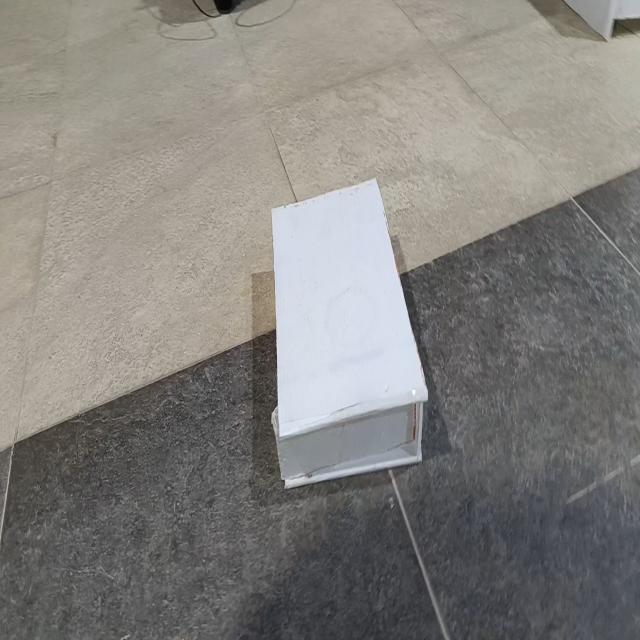Cuboid: (269, 175, 429, 489)
